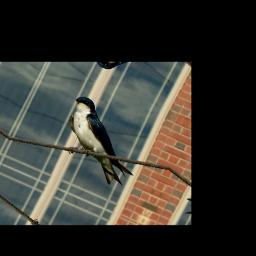Swallow: (46, 93, 158, 193)
